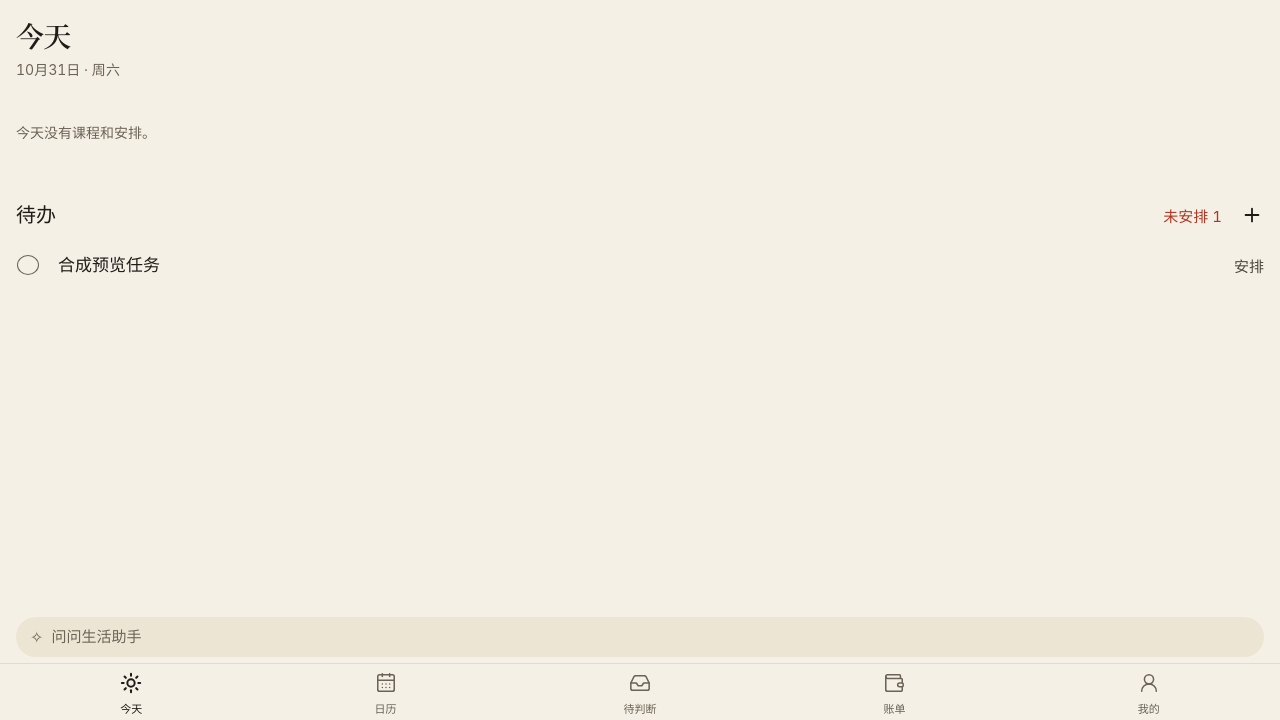
Test case: phone layout › drops the queued copy of a preview the user declines
The image size is (1280, 720).
What coordinates should you click on to do the following:
click the checkbox named "完成 合成预览任务"
I would click on:
 (28, 265)
Its box is top-left (17, 255), bottom-right (39, 275).
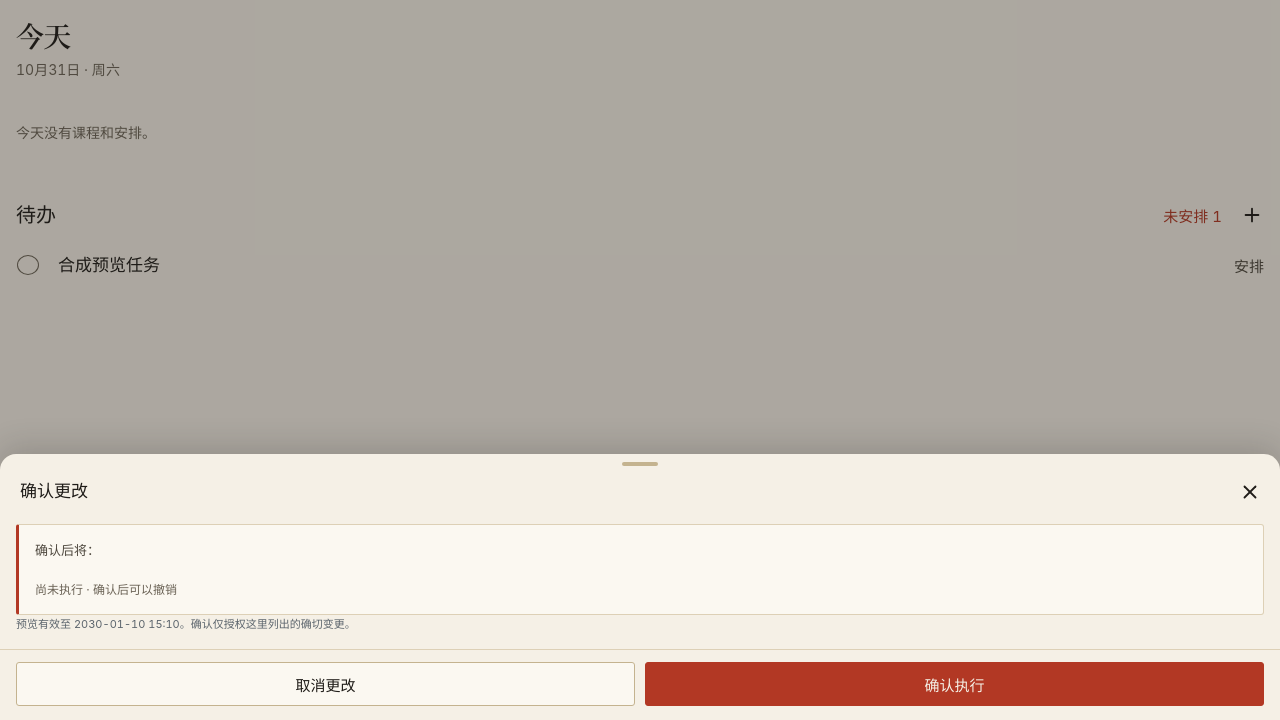
What coordinates should you click on to do the following:
click the button "取消更改"
I would click on:
 (326, 684)
Its box is top-left (16, 662), bottom-right (635, 706).
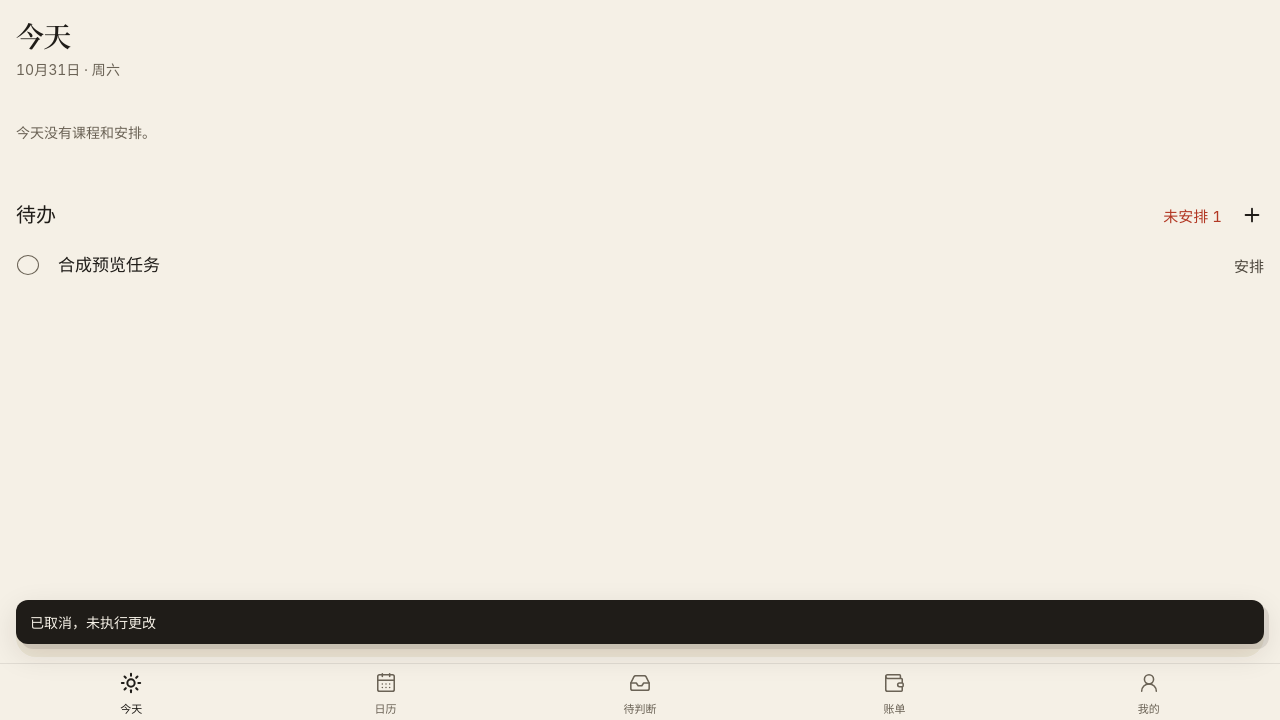
Check: the heading "确认更改" is gone
